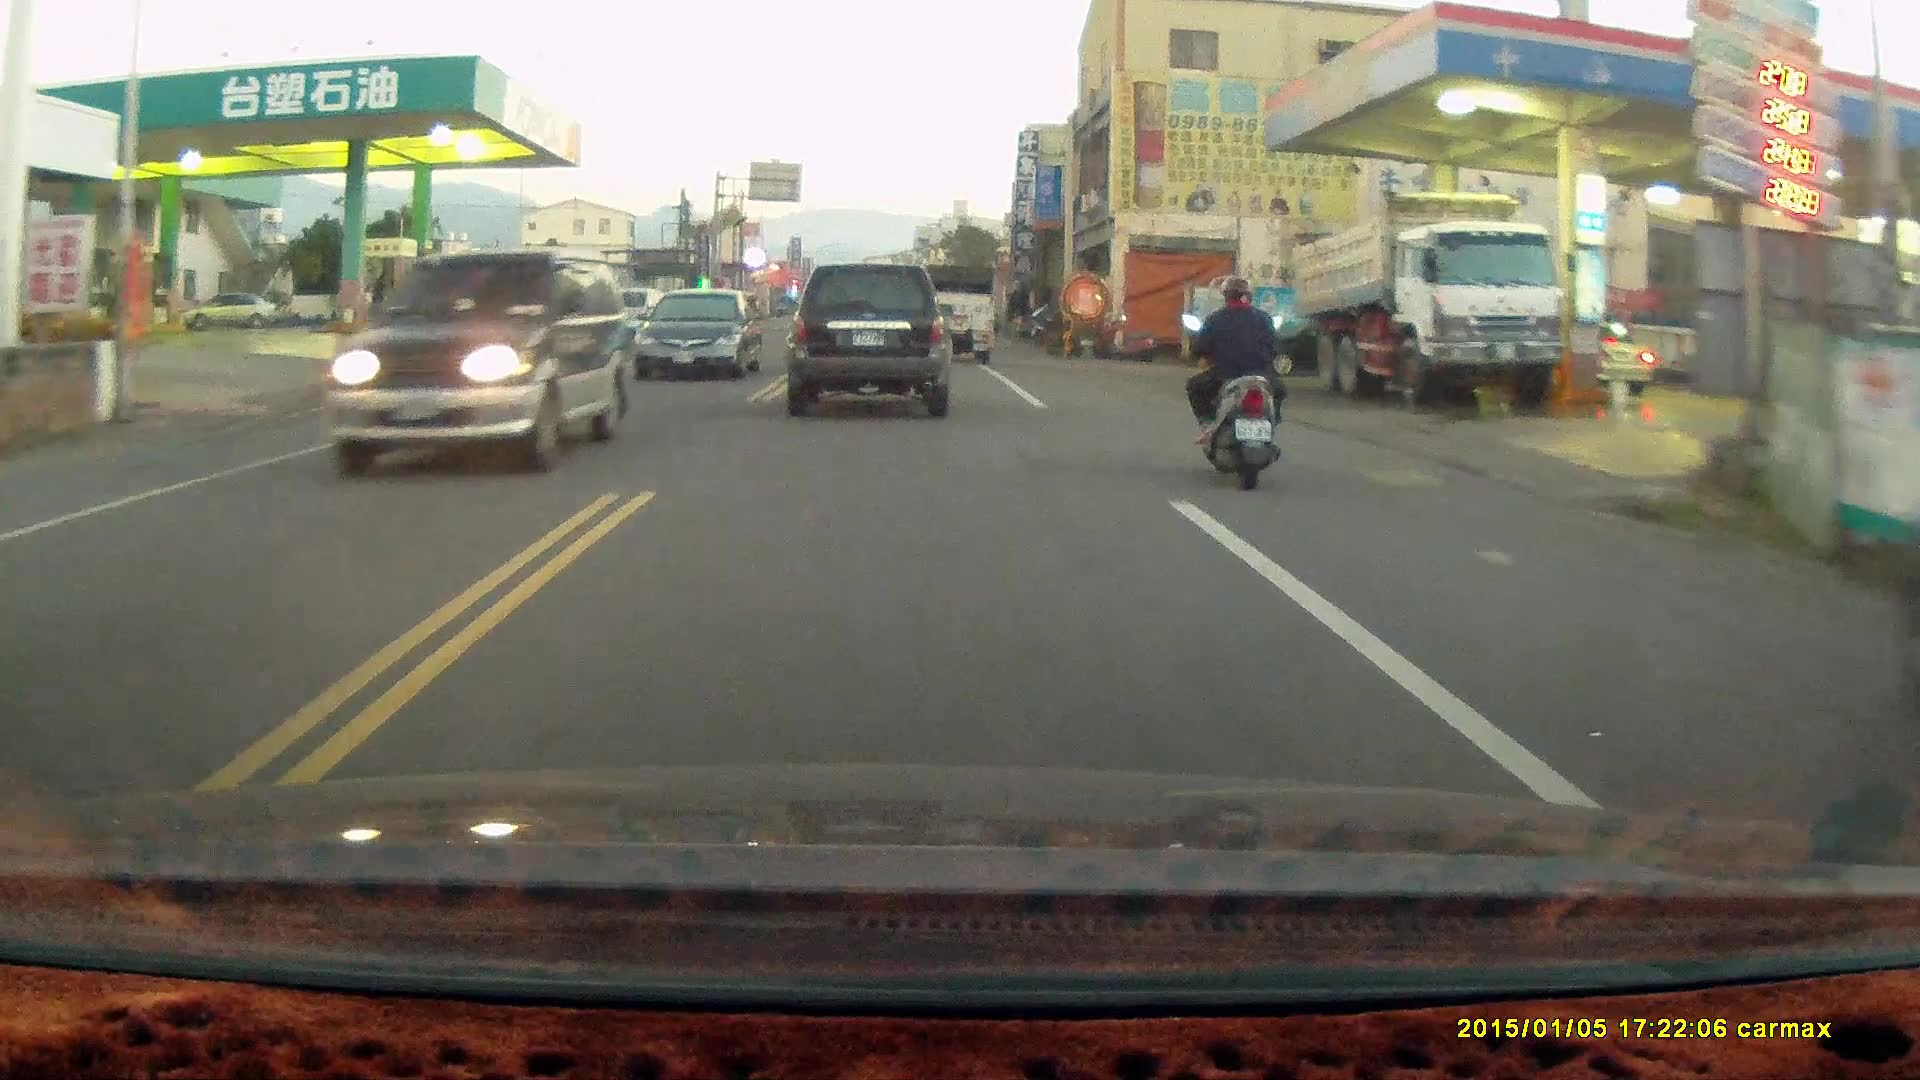rider: (1180, 276, 1287, 494)
vehicle: (322, 244, 638, 471), (1289, 187, 1567, 408), (791, 261, 954, 418), (637, 289, 769, 385), (902, 252, 995, 351)
